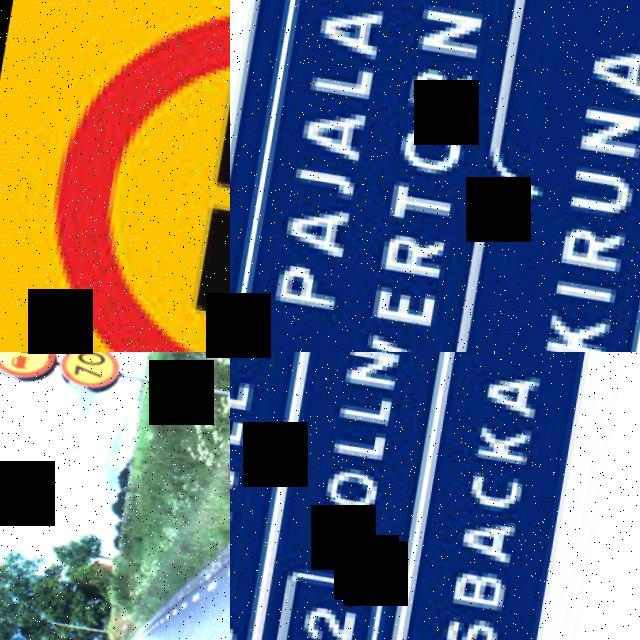106: (230, 0, 640, 352)
33: (0, 352, 63, 383)
55: (53, 352, 131, 395)
Advance direction sign exit ahead from other road than motorway or expressway: (230, 352, 603, 640)
axle weight limit 30tonnes: (0, 0, 230, 352)
